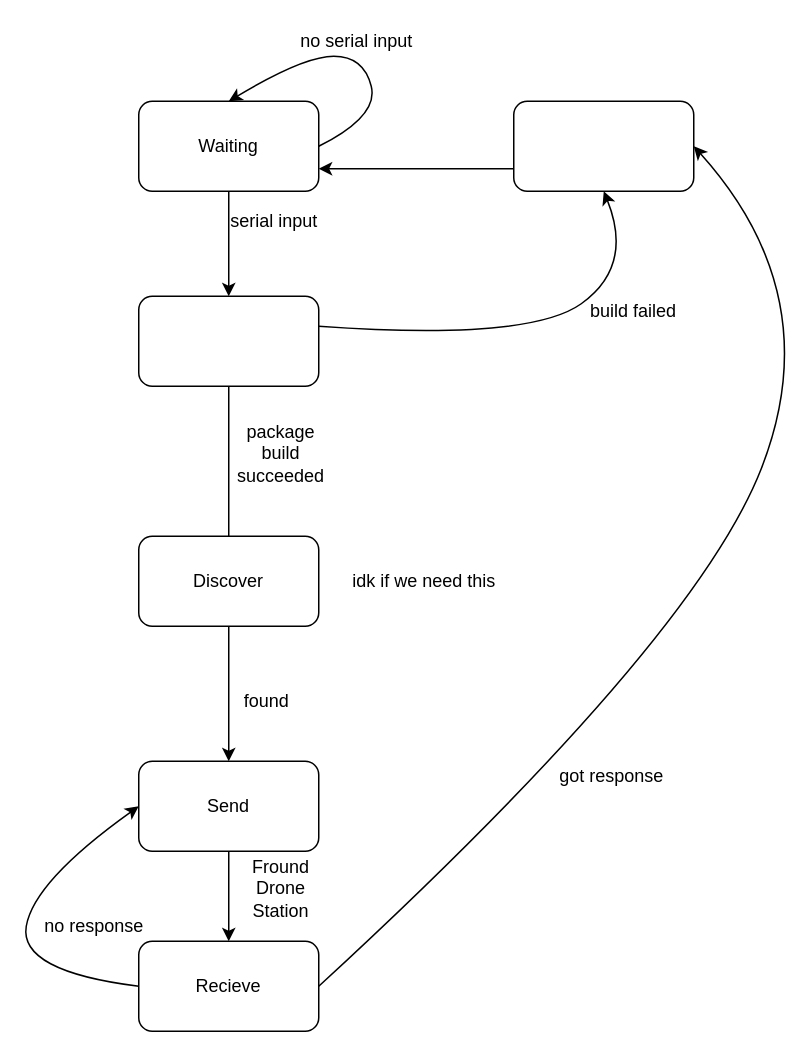
The diagram is 812 pixels wide and 1058 high, and some of its shapes have lost their labels. The centre of each missing label's shape, as x and y in pixels:
Building: point (228, 340)
Clear Serial Input: point (603, 145)
